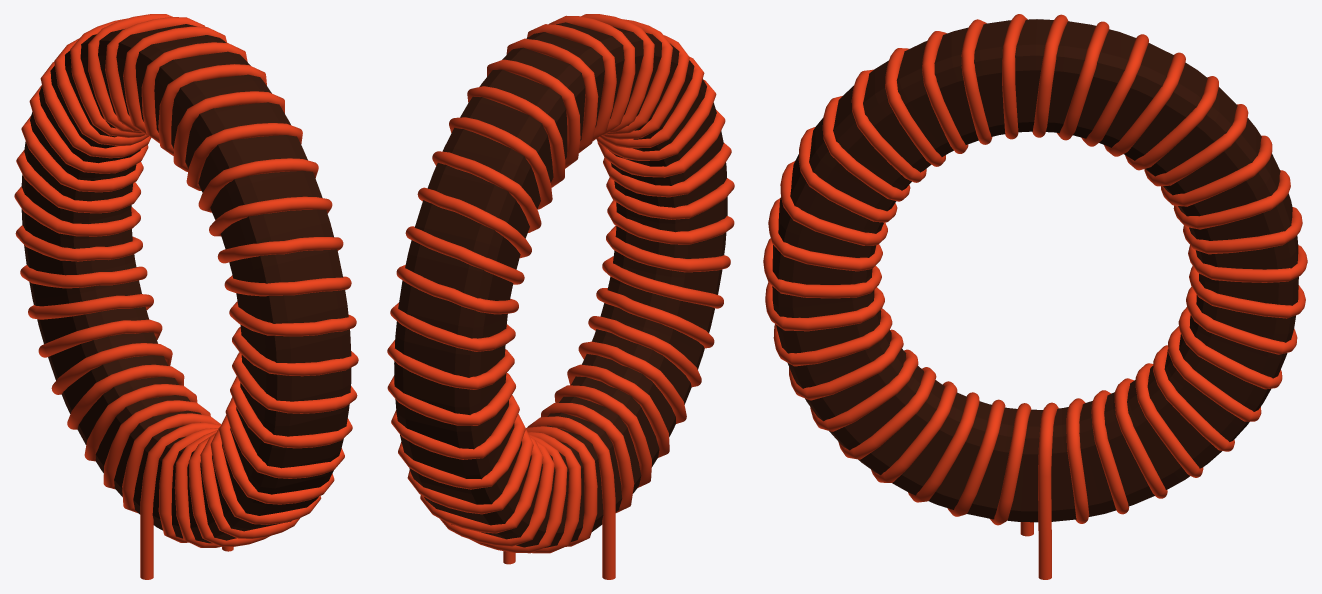
The model's file is TortusComponent.fbx.
3 renders of one model, left to right at view 1: azimuth 30°, elevation 25°; view 2: azimuth 150°, elevation 25°; view 3: azimuth 270°, elevation 25°, orthographic.
Parts seen in each view (by area): view 1: Spiral.001; view 2: Spiral.001; view 3: Spiral.001.
Part boxes in pixels (<box>): Spiral.001: <box>14,14,358,579</box>; Spiral.001: <box>387,14,734,579</box>; Spiral.001: <box>763,14,1307,579</box>.
Bounding box in the file's own units: 58.13 × 291 × 271.
